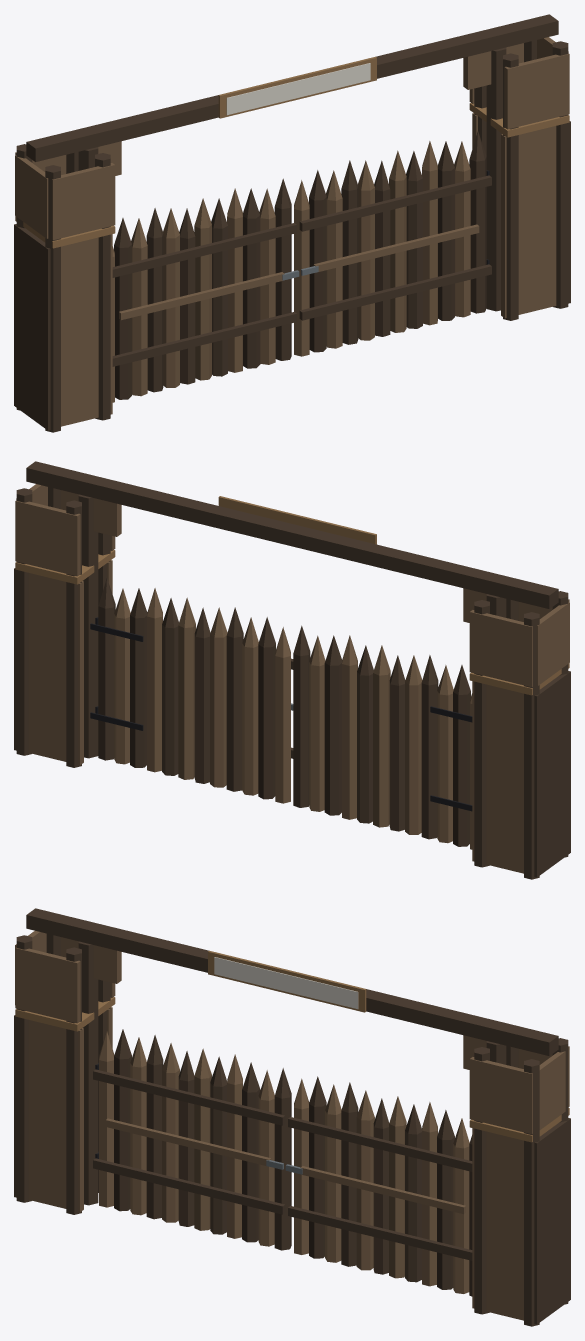
File: camp_gate_wood.glb
3 renders of one model, top to bottom at view 1: azimuth 30°, elevation 25°; view 2: azimuth 150°, elevation 25°; view 3: azimuth 330°, elevation 25°, orthographic.
Visible parts, largest first — view 1: camp_gate_wood, gate_leaf_r, gate_leaf_l; view 2: camp_gate_wood, gate_leaf_r, gate_leaf_l; view 3: camp_gate_wood, gate_leaf_l, gate_leaf_r.
Boxes of the visible parts, x1,y1,x2,y2 form: camp_gate_wood: (14,14,570,432); gate_leaf_r: (294,131,491,356); gate_leaf_l: (112,178,299,402); camp_gate_wood: (14,461,570,879); gate_leaf_r: (90,578,293,803); gate_leaf_l: (293,625,472,849); camp_gate_wood: (14,908,570,1326); gate_leaf_l: (93,1029,291,1250); gate_leaf_r: (285,1076,472,1296).
Size of what is drawn, in the model's own units: 8 by 4.15 by 1.
1 material, 1 textured.
